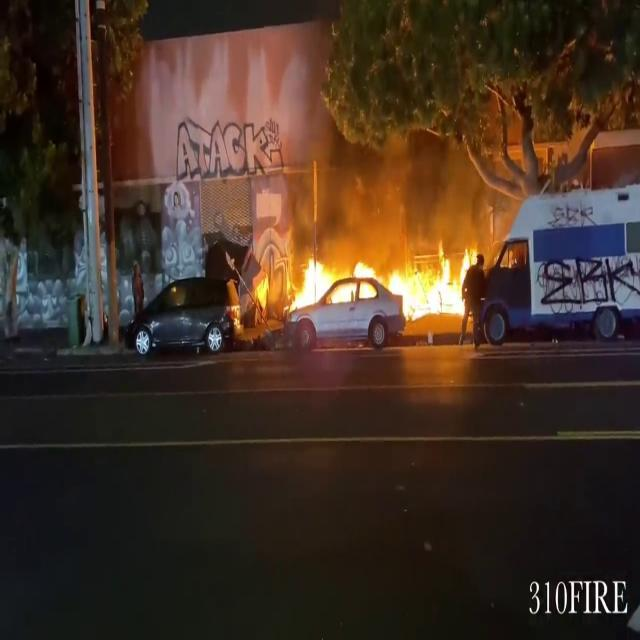Fire: (258, 238, 478, 328)
Smoke: (320, 73, 530, 261)
